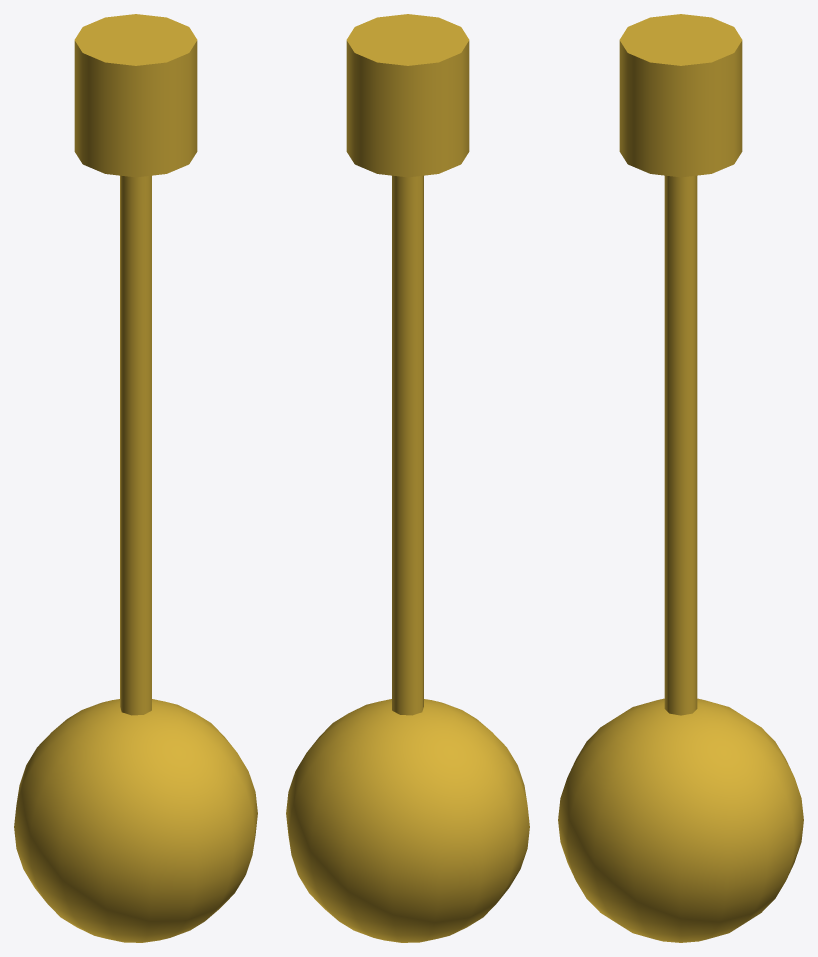
Rendered from placeholder-earring-dangly.glb.
The picture shows the model from 3 angles, left to right: view 1: azimuth 30°, elevation 25°; view 2: azimuth 150°, elevation 25°; view 3: azimuth 270°, elevation 25°; orthographic projection.
Size of the model in its own units: 0.006 by 0.024 by 0.006.
